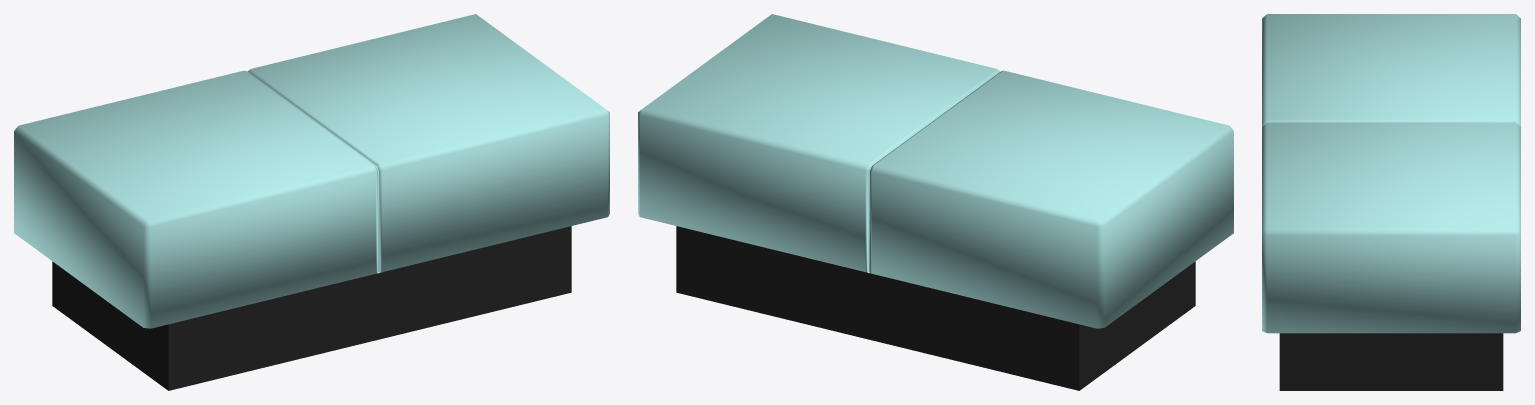
Rendered from bench.fbx.
The picture shows the model from 3 angles, left to right: view 1: azimuth 30°, elevation 25°; view 2: azimuth 150°, elevation 25°; view 3: azimuth 270°, elevation 25°; orthographic projection. The views are drawn at different scales.
Visible parts, largest first — view 1: Bench; view 2: Bench; view 3: Bench.
Part boxes in pixels (x1,y1,x2,y2): Bench: (14, 14, 609, 390); Bench: (638, 14, 1233, 390); Bench: (1262, 14, 1520, 390).
Bounding box in the file's own units: 463 × 173 × 231.
